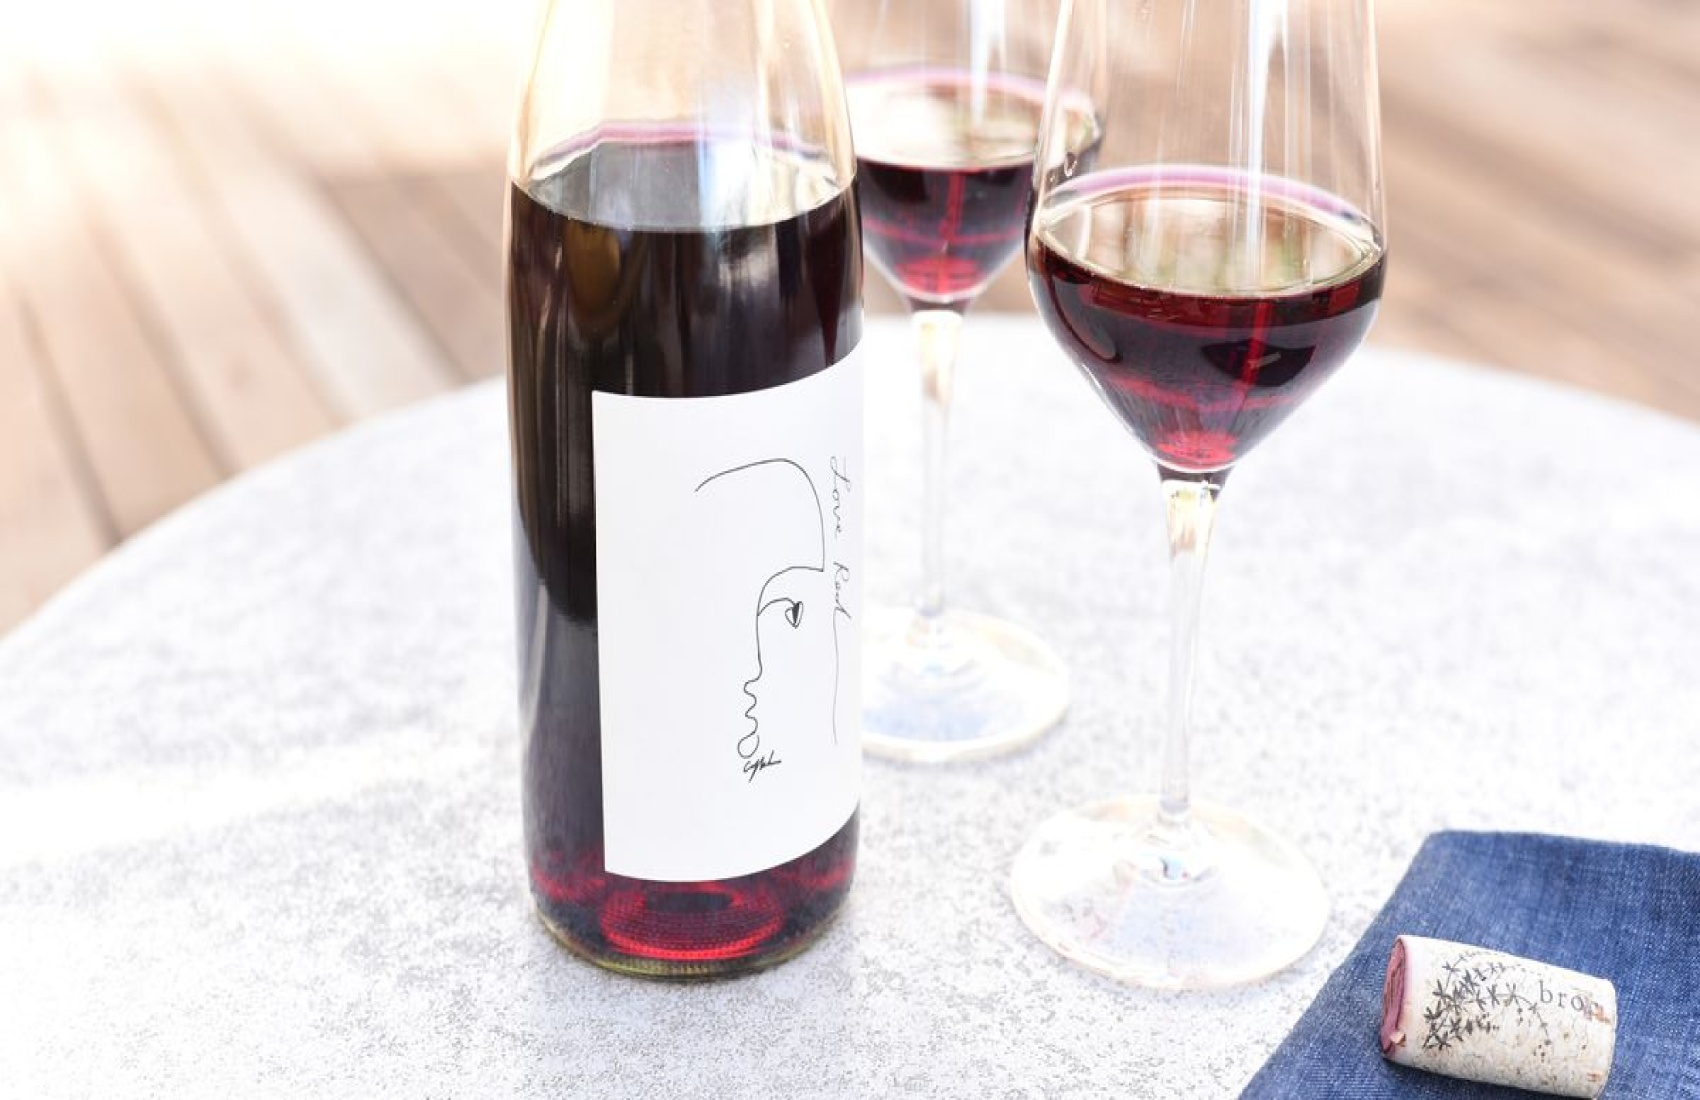wine: (504, 7, 857, 962)
